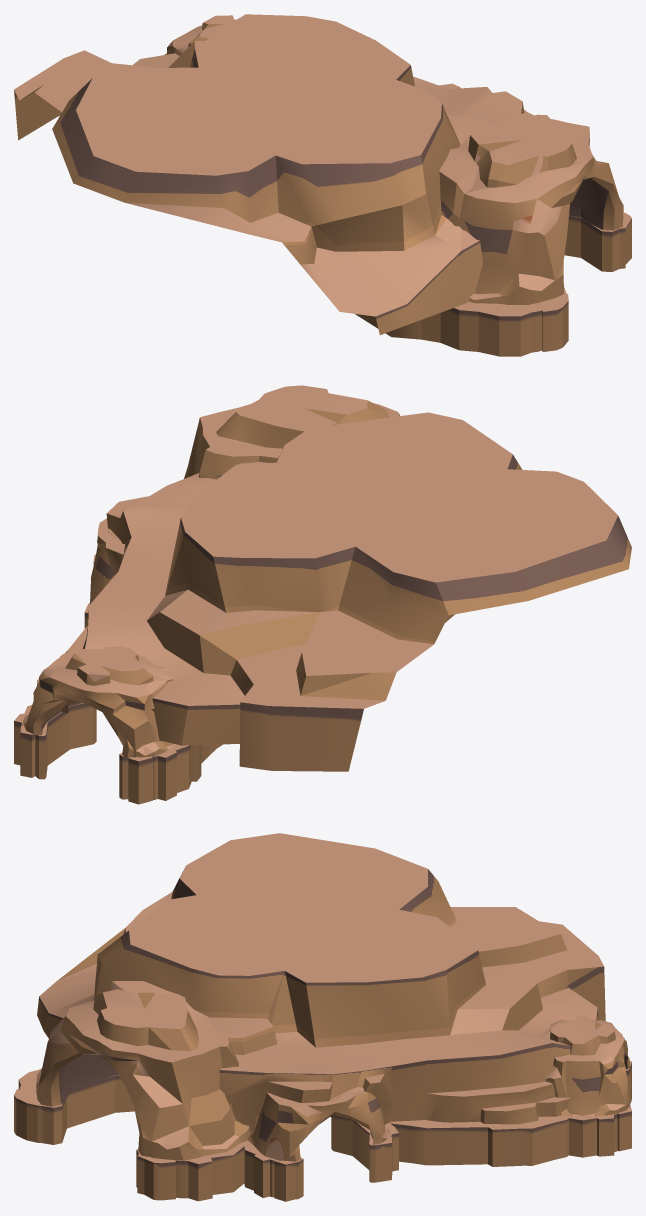
Rendered from BO_CaveRoof_02.fbx.
3 renders of one model, top to bottom at view 1: azimuth 30°, elevation 25°; view 2: azimuth 150°, elevation 25°; view 3: azimuth 270°, elevation 25°, orthographic. The views are drawn at different scales.
Visible parts, largest first — view 1: BO_CaveRoof_02_a, BO_CaveRoof_02_b; view 2: BO_CaveRoof_02_a, BO_CaveRoof_02_b; view 3: BO_CaveRoof_02_a, BO_CaveRoof_02_b.
Boxes of the visible parts, bbox=[...] form: BO_CaveRoof_02_a: bbox=[14, 14, 623, 335]; BO_CaveRoof_02_b: bbox=[355, 212, 631, 356]; BO_CaveRoof_02_a: bbox=[23, 385, 631, 771]; BO_CaveRoof_02_b: bbox=[14, 554, 454, 804]; BO_CaveRoof_02_a: bbox=[36, 833, 630, 1161]; BO_CaveRoof_02_b: bbox=[14, 1061, 631, 1201].
Bounding box in the file's own units: 3863 × 1246 × 4515.
